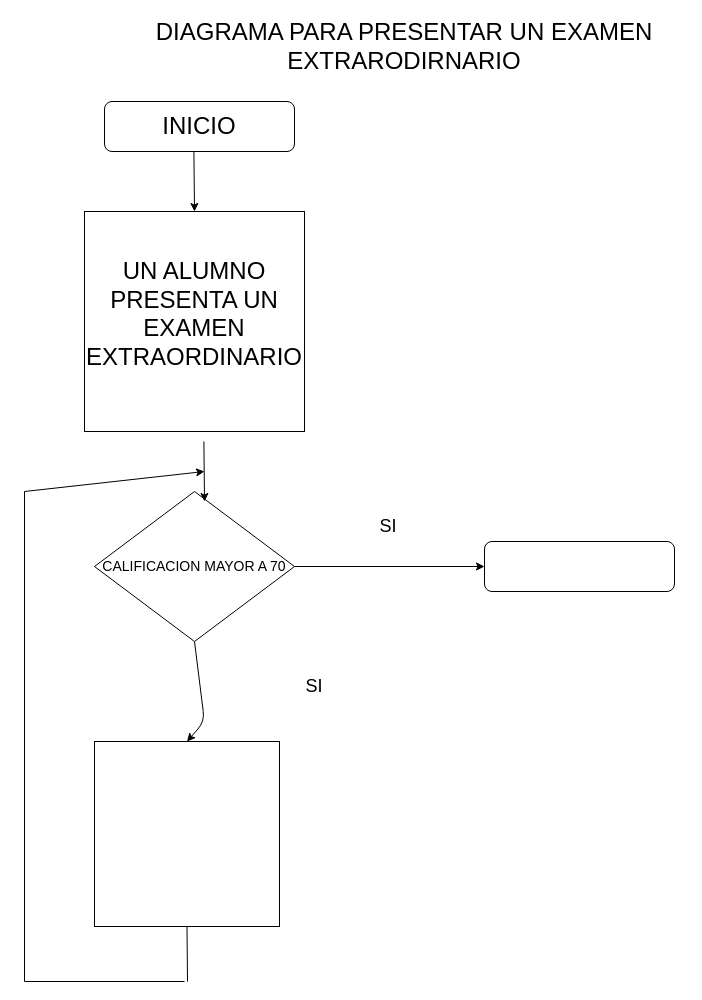
Image size: 702x1000. Some labels were removed from this diagram. Each missing label, with the centre of its shape:
"FIN" goes at [579,566].
"SOLICITE A CONSEJO UNA OPORTUNIDAD" goes at [187,833].
